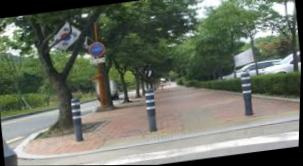Animal: (65, 91, 93, 142), (234, 76, 260, 113), (140, 91, 160, 130)
